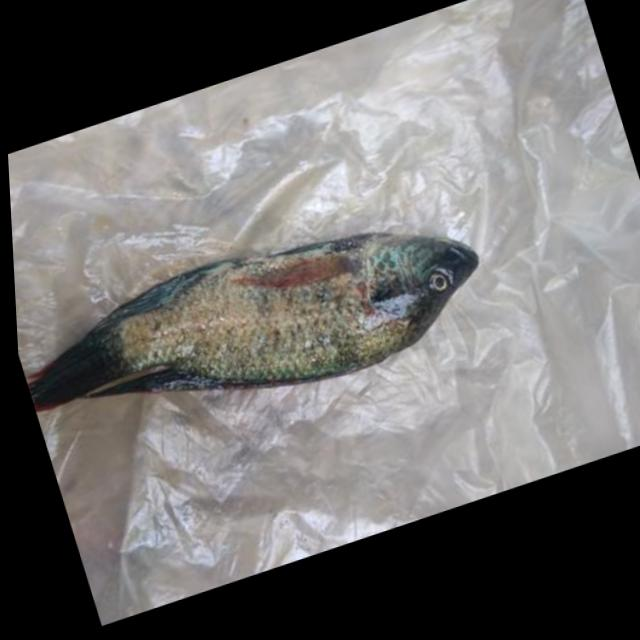Tilapia: (11, 174, 500, 472)
